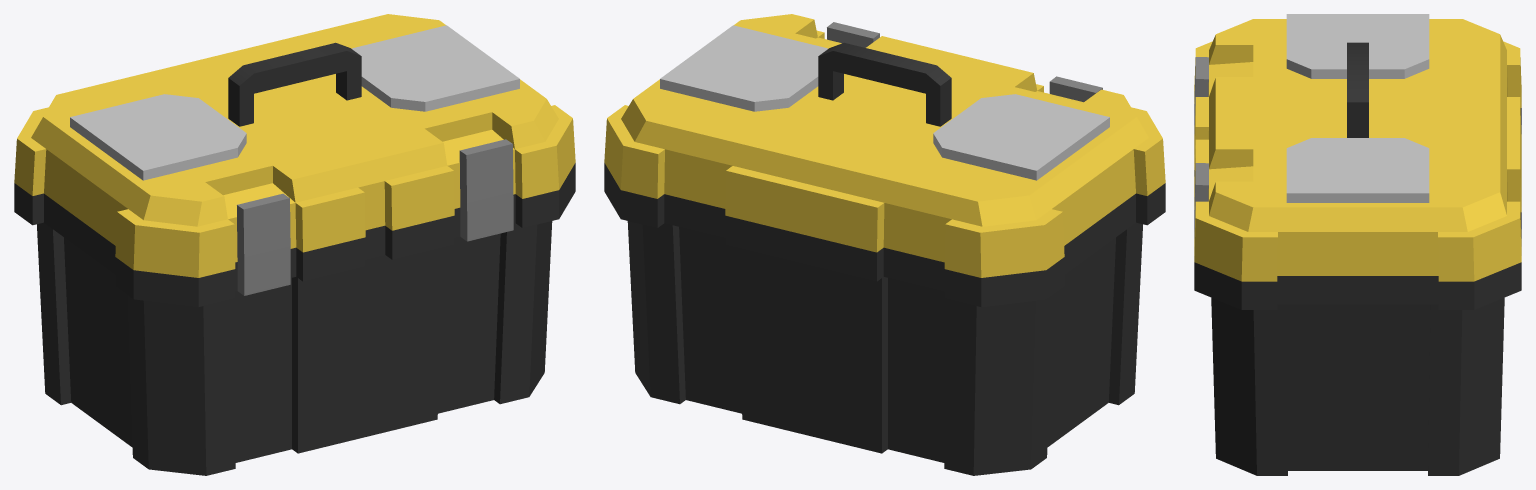
Rendered from tool_box.fbx.
3 views of the same model, side by side, from view 1: azimuth 30°, elevation 25°; view 2: azimuth 150°, elevation 25°; view 3: azimuth 270°, elevation 25° (orthographic). The views are drawn at different scales.
Parts seen in each view (by area): view 1: tool_box; view 2: tool_box; view 3: tool_box.
Part boxes in pixels (x1=…): tool_box: x1=14, y1=14, x2=575, y2=475; tool_box: x1=604, y1=14, x2=1165, y2=475; tool_box: x1=1194, y1=14, x2=1521, y2=475.
Bounding box in the file's own units: 0.7773 × 0.5463 × 0.5113.
Materials: 1 (1 with a texture image).
